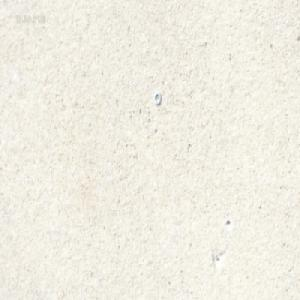Washer: (154, 92, 161, 106)
